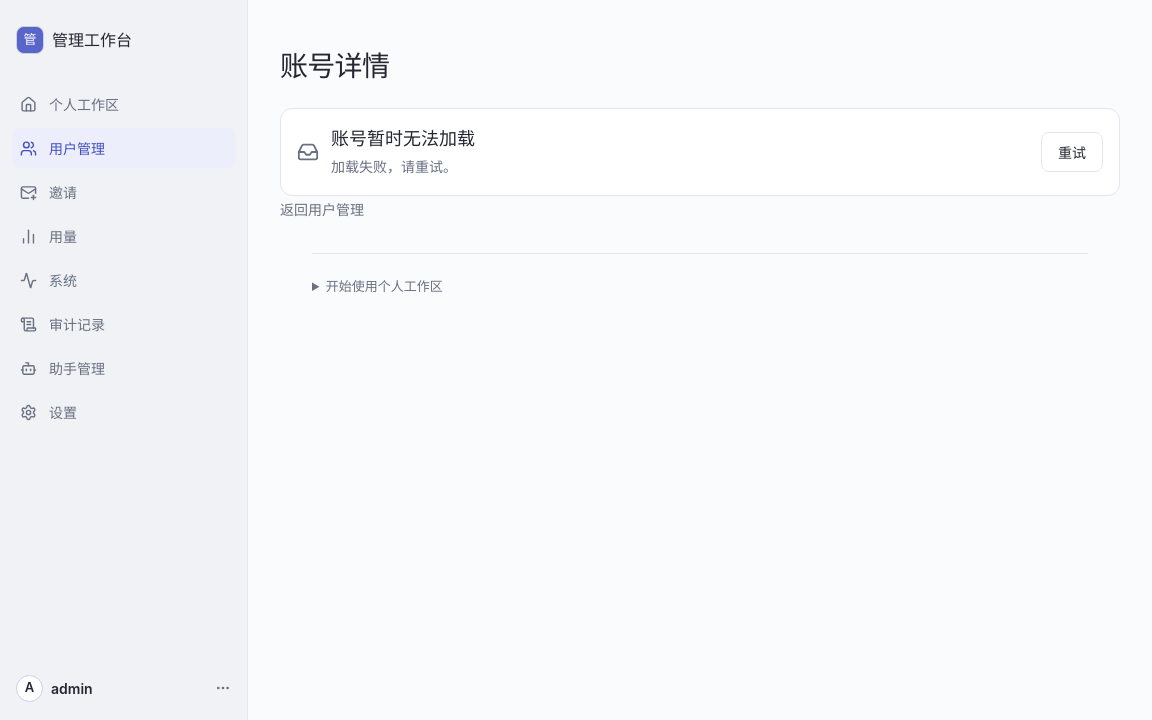
Test: admin workbench resilience › distinguishes temporary account failures from missing accounts and retries
Check: the text "账号暂时无法加载" is shown, box [331,128,475,149]
What coordinates should you click on to do the following:
click the button "重试"
I would click on:
 (1072, 152)
Its box is [1041,132,1103,172].
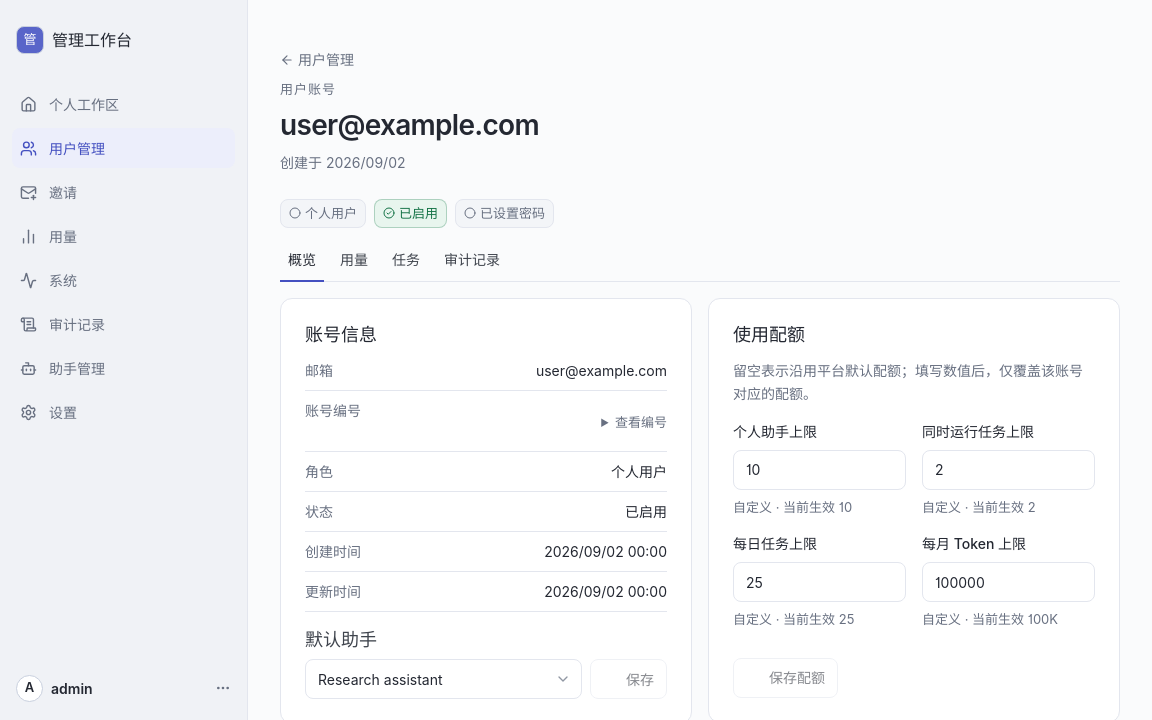
Check: the heading "user@example.com" is shown, box [280,108,539,142]
